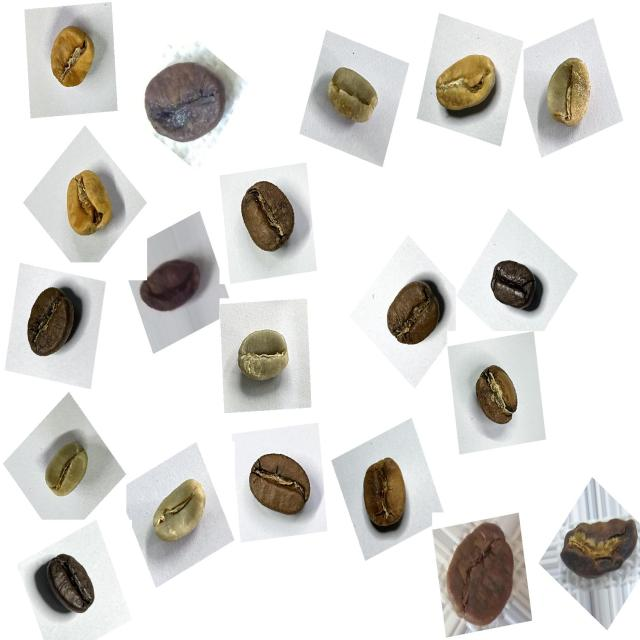bad: (438, 511, 529, 637), (139, 46, 236, 154), (556, 506, 640, 594), (137, 244, 211, 326)
dark: (37, 541, 108, 627), (481, 249, 550, 322)
green: (143, 467, 218, 561), (534, 47, 604, 142), (228, 315, 300, 400), (319, 57, 390, 140), (36, 431, 99, 510)
light: (427, 38, 508, 132), (53, 162, 122, 252), (40, 13, 106, 100)
medium: (240, 439, 323, 531), (230, 171, 308, 265), (348, 445, 420, 542), (14, 276, 87, 370), (376, 272, 450, 358), (465, 353, 530, 437)
